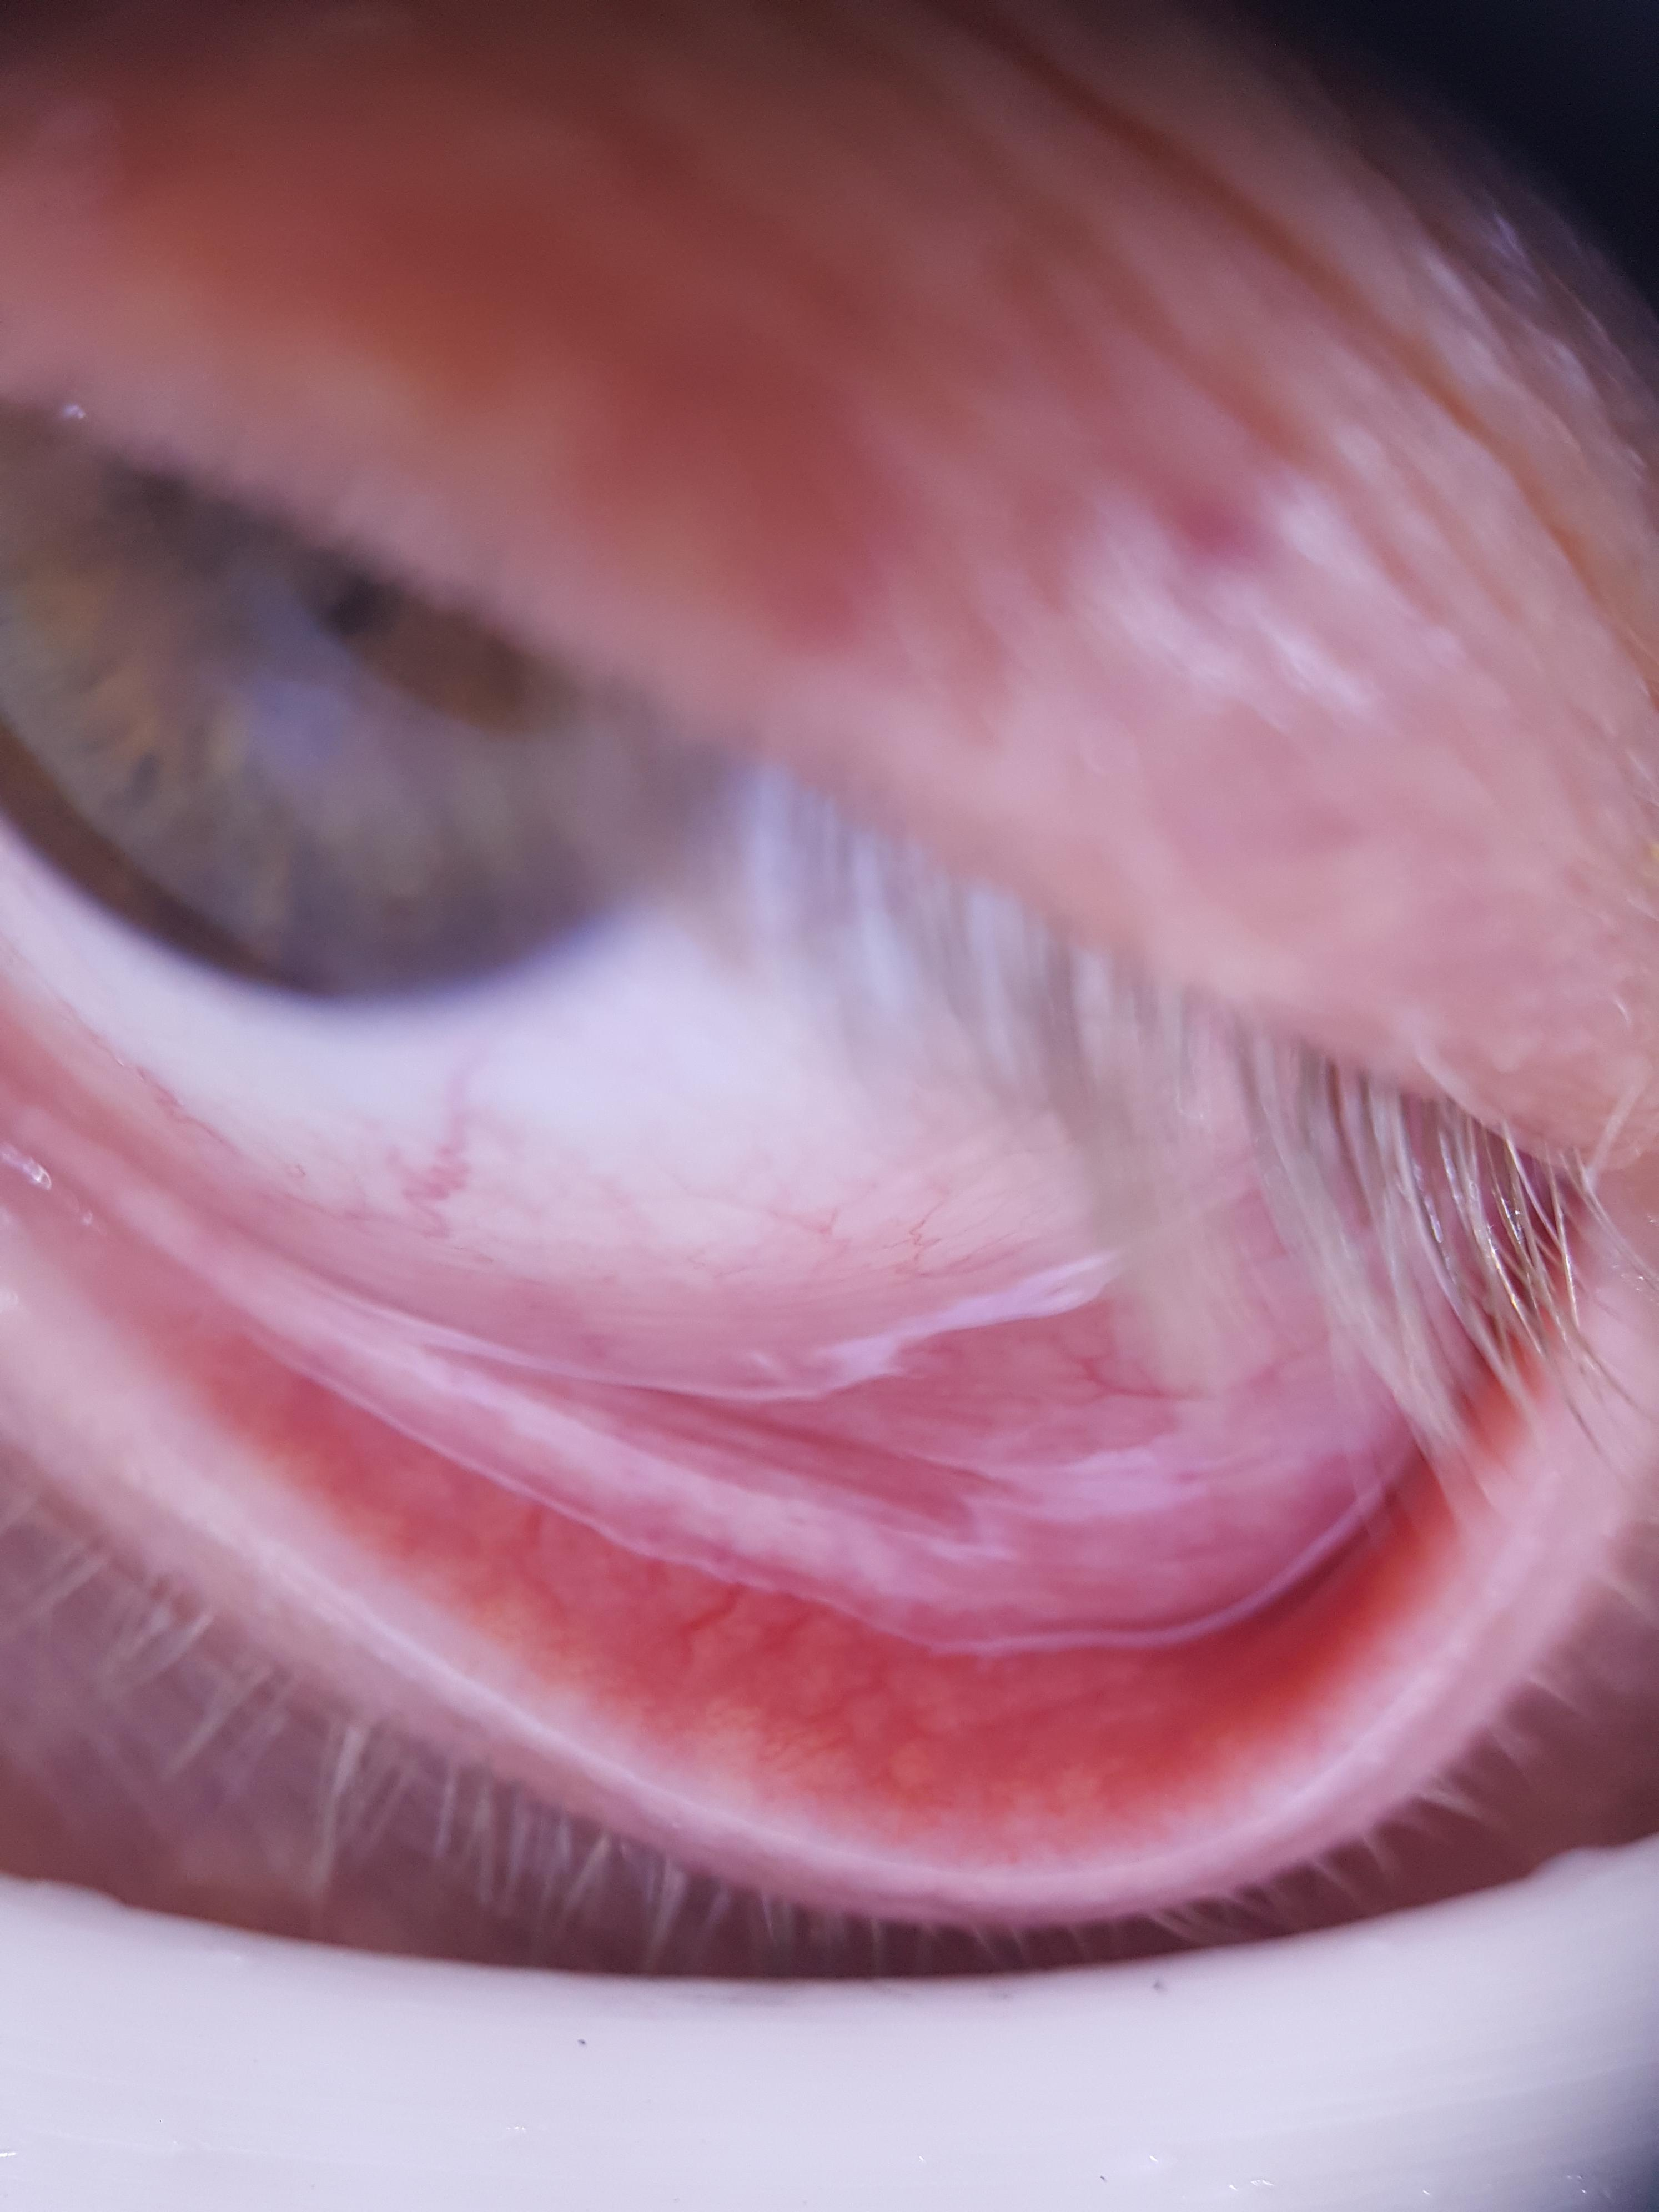forniceal: (2, 1049, 1359, 1642)
forniceal_palpebral: (2, 1035, 1384, 1838)
palpebral: (0, 1148, 1366, 1820)
